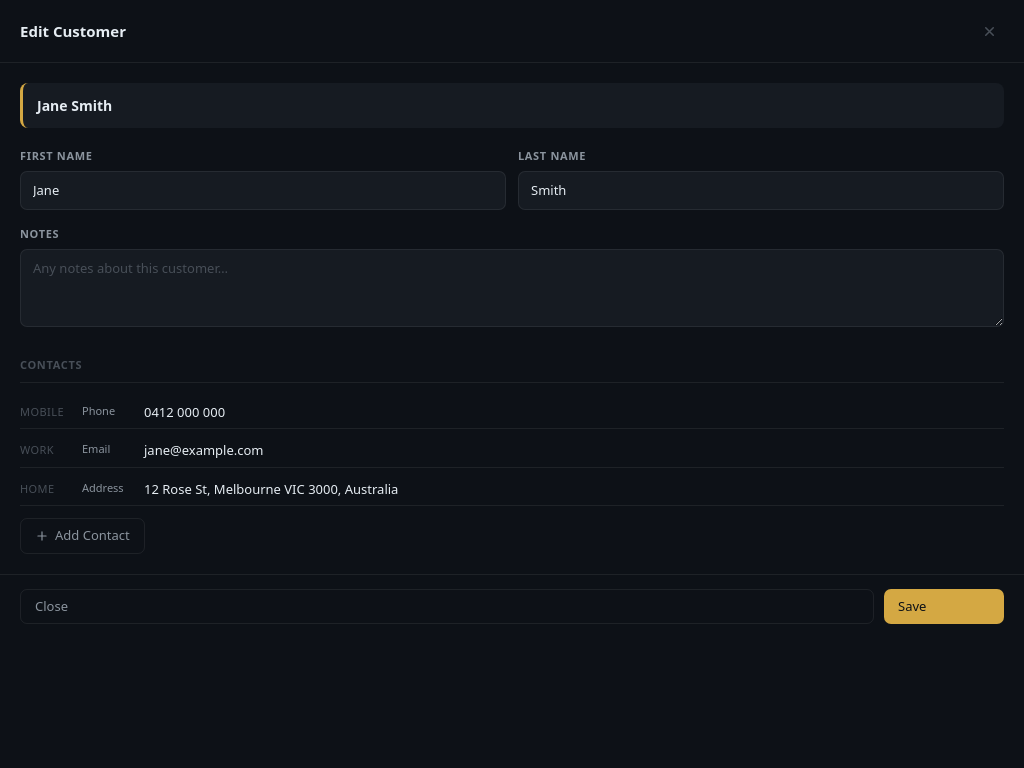
Test: CustomerDetail › displays a server field error returned by POST contacts (400)
expect the text "Jane Smith" is shown: met, box [37,96,112,115]
Click the button "Add Contact". click: x=82, y=536
box: [20,518,145,554]
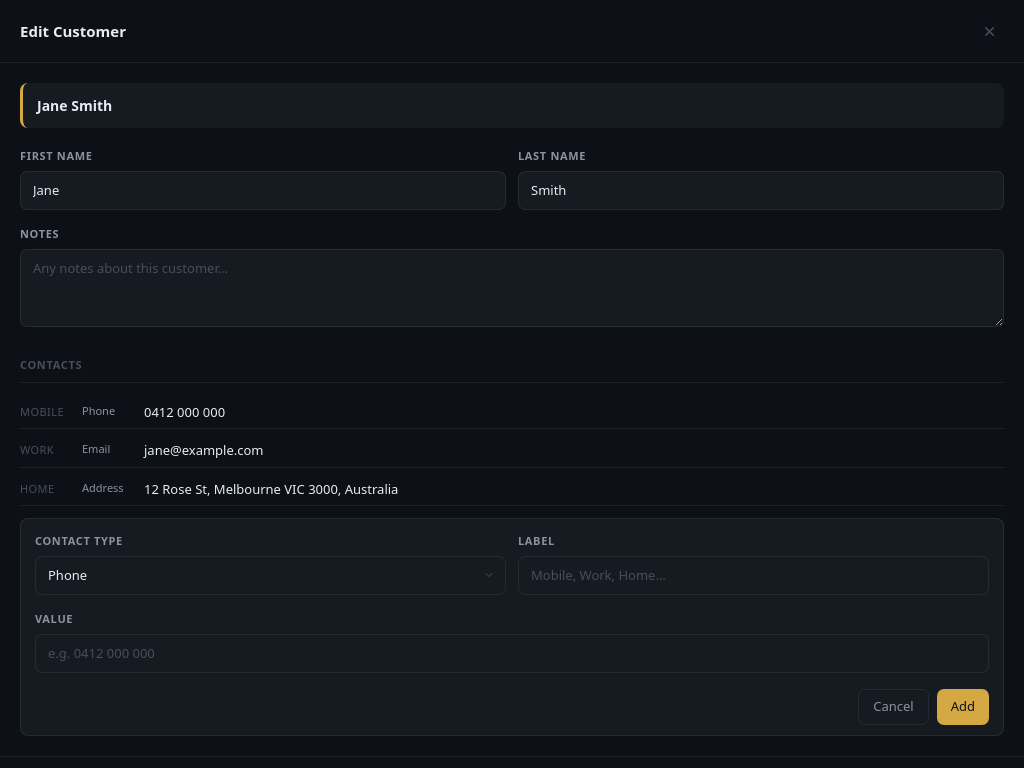
Select "Phone" in the dropdown labelled "Contact Type". click: x=270, y=575
box: [35,556,506,595]
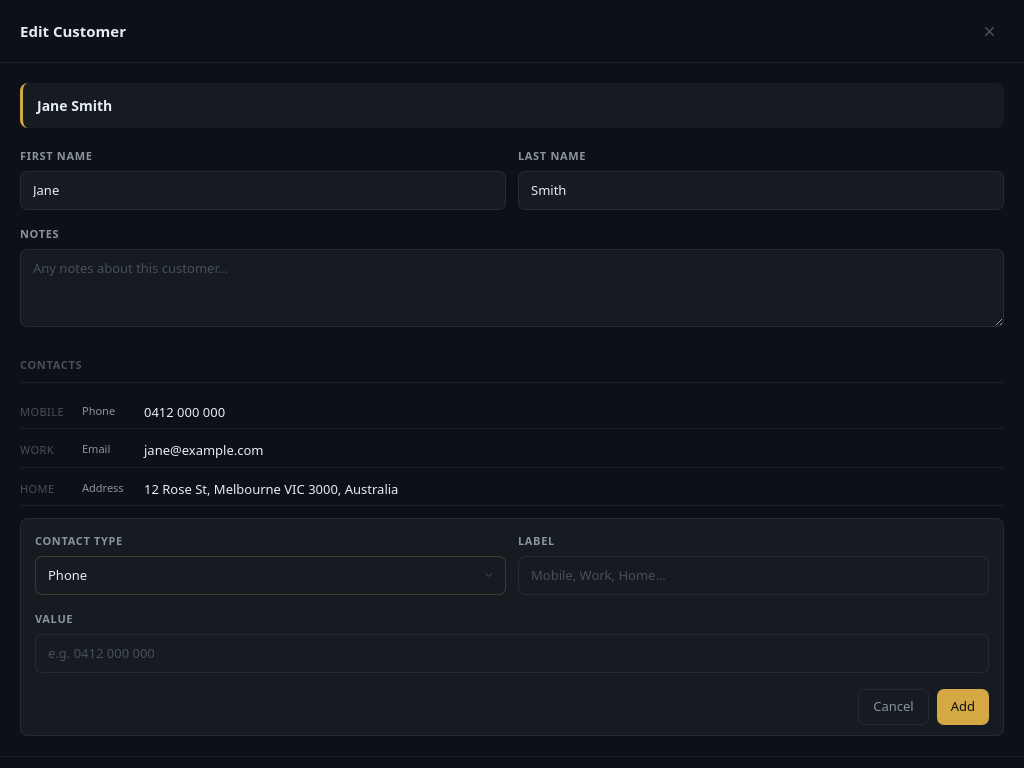
Type "xx" into the field labelled "Value". click: x=512, y=653
box: [35,634,989,673]
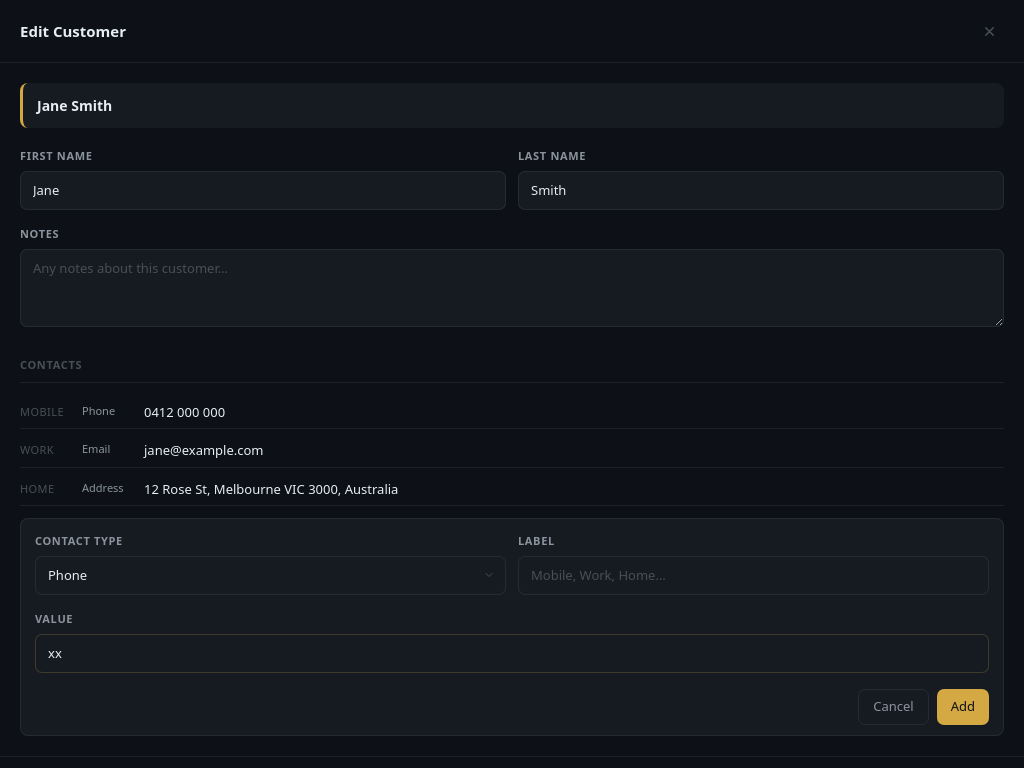
Click the button "Add". click: x=963, y=707
box: [937,689,989,724]
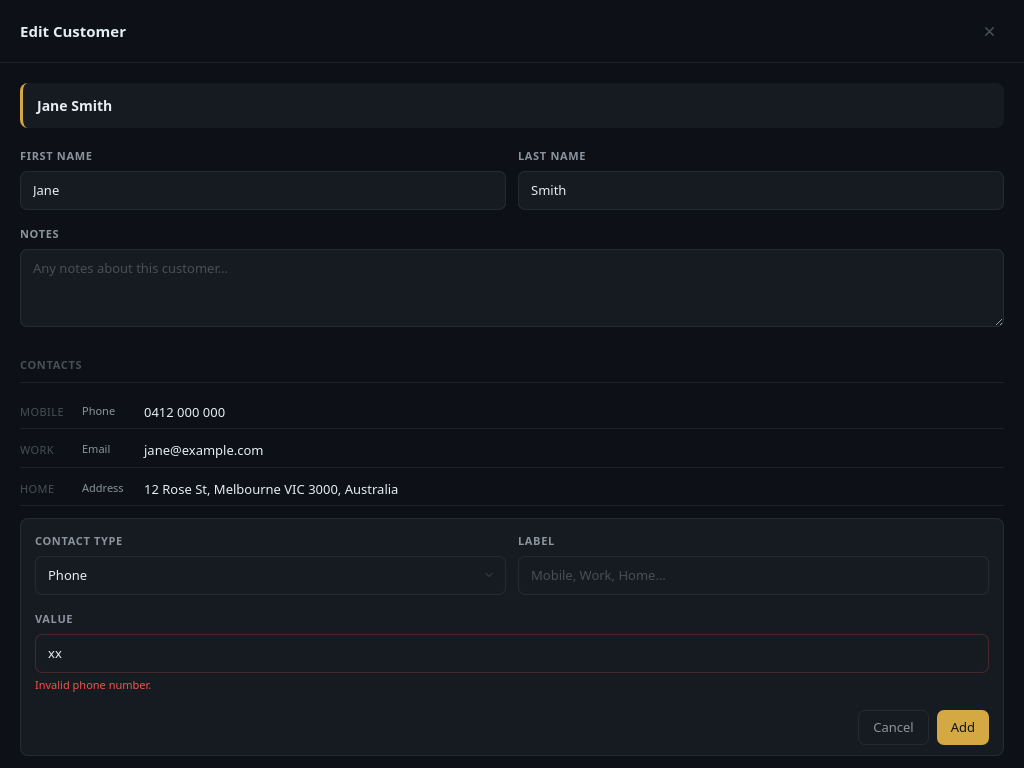
expect the text "Invalid phone number." is shown: met, box [35,677,151,692]
